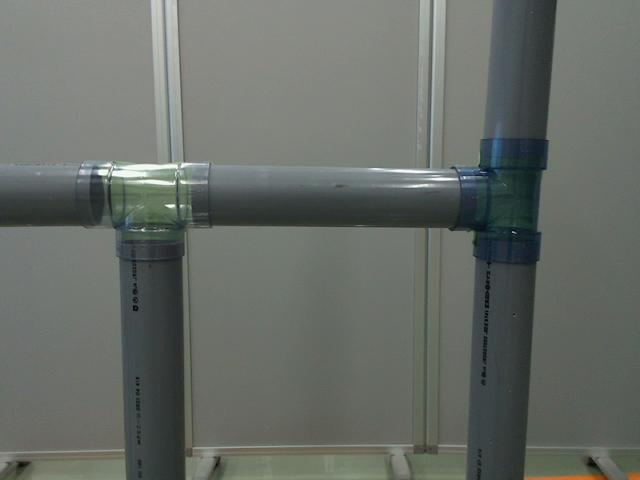junction: (75, 160, 211, 261), (454, 133, 553, 262)
